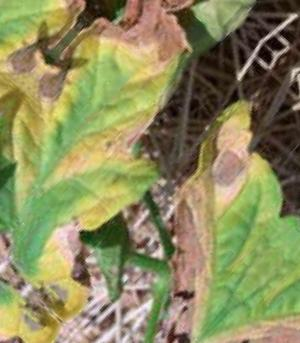Tomato Early blight leaf: (0, 0, 256, 305), (97, 93, 300, 343)
